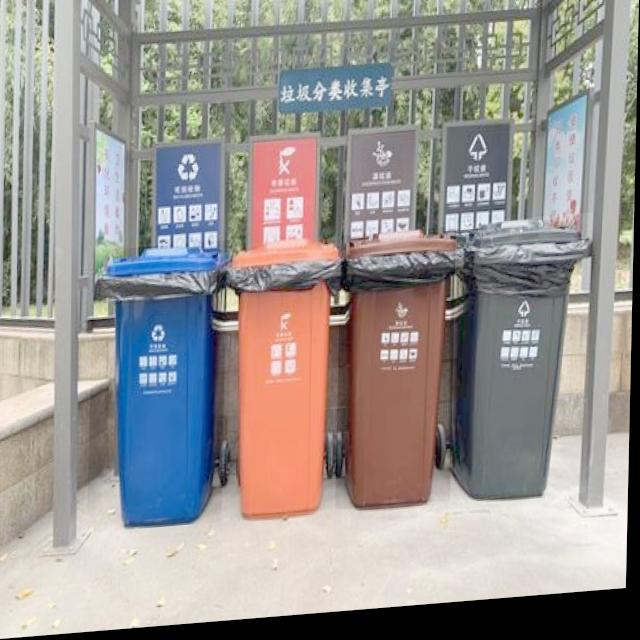garbage_bin: (89, 244, 229, 535), (453, 223, 593, 511), (338, 235, 457, 516), (225, 242, 342, 525)
